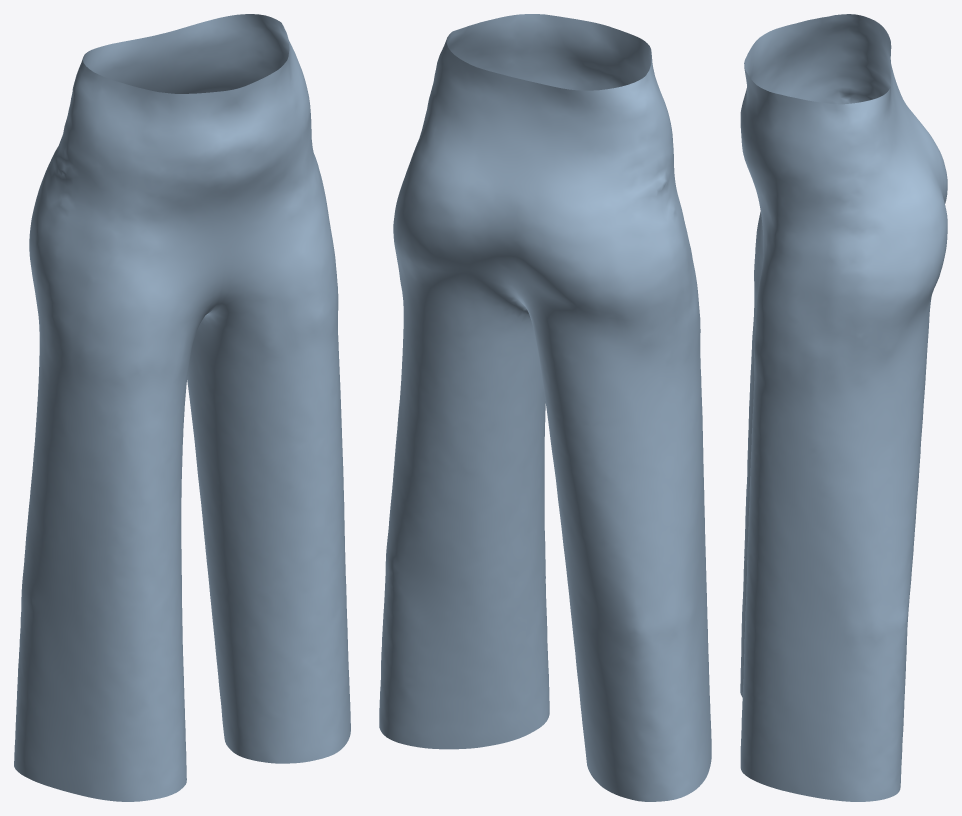
File: trousers_L.glb
The picture shows the model from 3 angles, left to right: view 1: azimuth 30°, elevation 25°; view 2: azimuth 150°, elevation 25°; view 3: azimuth 270°, elevation 25°; orthographic projection. The views are drawn at different scales.
Parts seen in each view (by area): view 1: geometry_0; view 2: geometry_0; view 3: geometry_0.
Part boxes in pixels (box(x1,y1,x2,y2)): geometry_0: box(14, 14, 350, 801); geometry_0: box(379, 14, 711, 801); geometry_0: box(740, 14, 947, 801).
Bounding box in the file's own units: 0.4712 × 1.01 × 0.2813.
